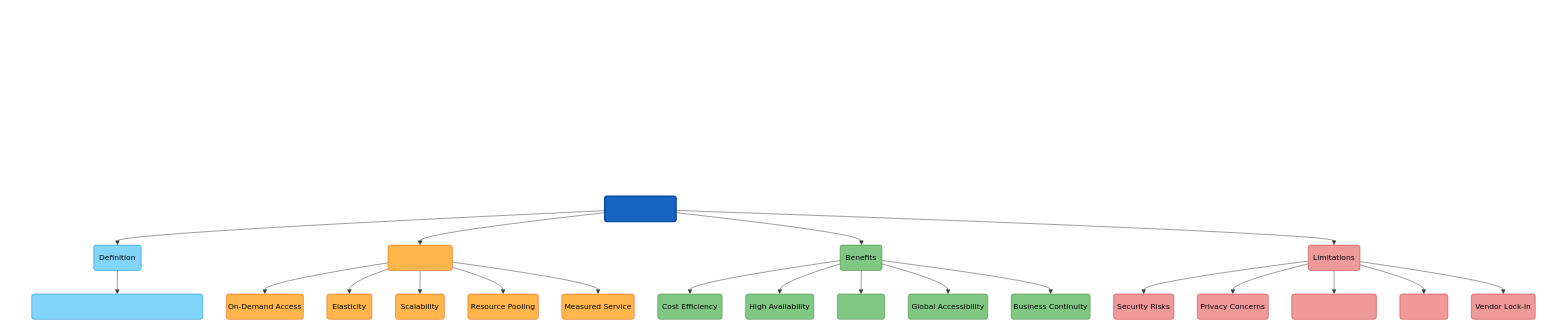
The diagram is 1543 pixels wide and 328 high, and some of its shapes have lost their labels. Here are the shapes that lost their labels. From the top down, the centre of each, then its label:
At point 640,208: "Cloud Computing".
At point 420,257: "Characteristics".
At point 117,306: "Delivery of Computing Resources over Internet".
At point 861,306: "Flexibility".
At point 1333,306: "Internet Dependency".
At point 1423,306: "Downtime".
